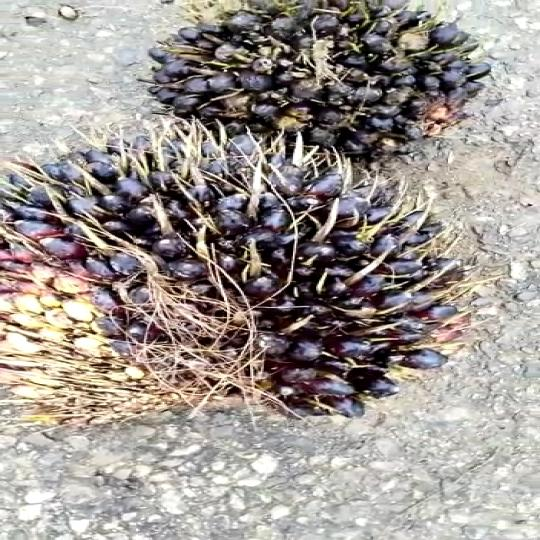mentah: (0, 122, 476, 437), (127, 0, 538, 160)
